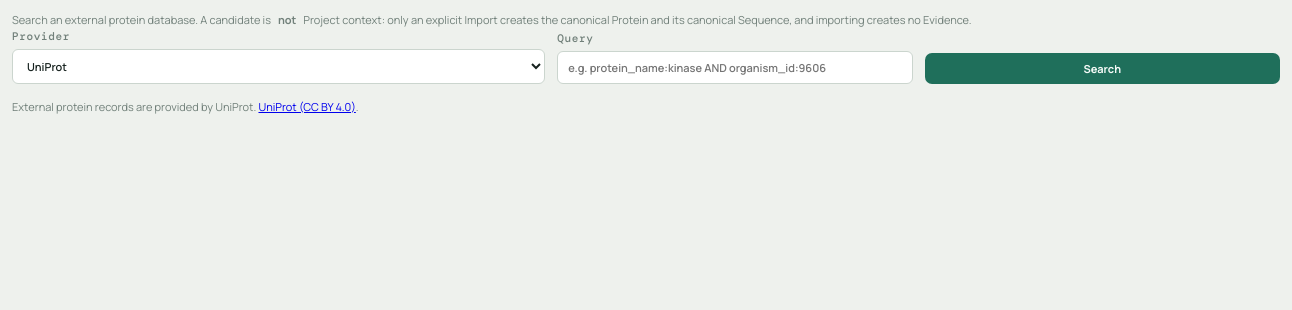
Test: ProteinDiscoveryView › labels external candidates as not yet in Project and shows the stable identity
This screenshot has width=1292, height=310.
Type "kinase" into the field named "Protein search query" at (735, 67), box x1=557 y1=51 x2=912 y2=84
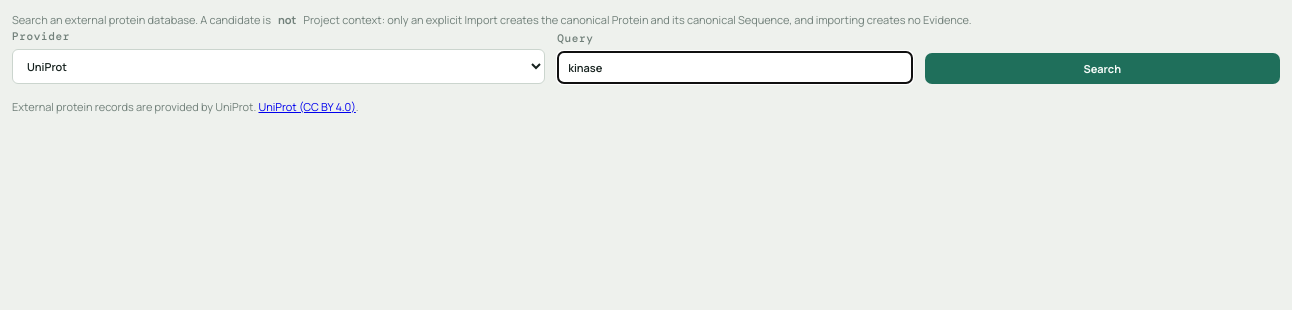
Click the button "Search" at (1102, 68), box x1=925 y1=53 x2=1280 y2=84
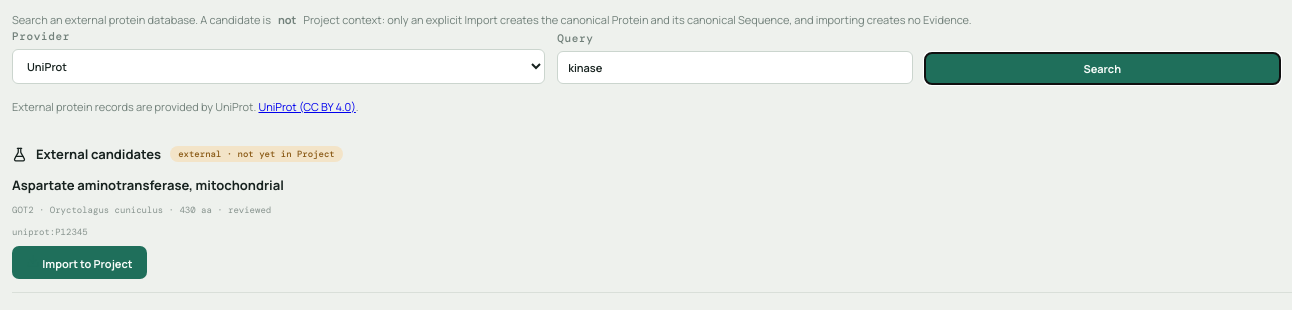
expect the text "External candidates" is shown: met, box x1=36 y1=145 x2=161 y2=163
expect the text "external · not yet in Project" is shown: met, box x1=170 y1=146 x2=343 y2=162
expect the text "uniprot:P12345" is shown: met, box x1=12 y1=226 x2=88 y2=238
